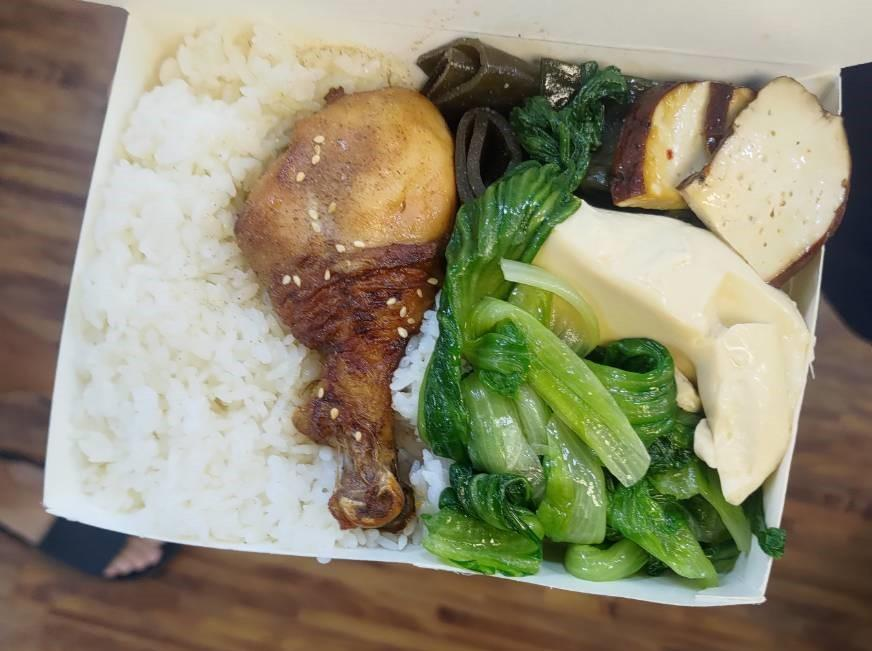big grilled chicken leg: (17, 7, 857, 616)
big herbal chicken leg: (77, 22, 441, 541)
braised fish fillet: (421, 64, 733, 582), (438, 36, 850, 279), (542, 200, 813, 504)
braised pork: (229, 76, 463, 541)
